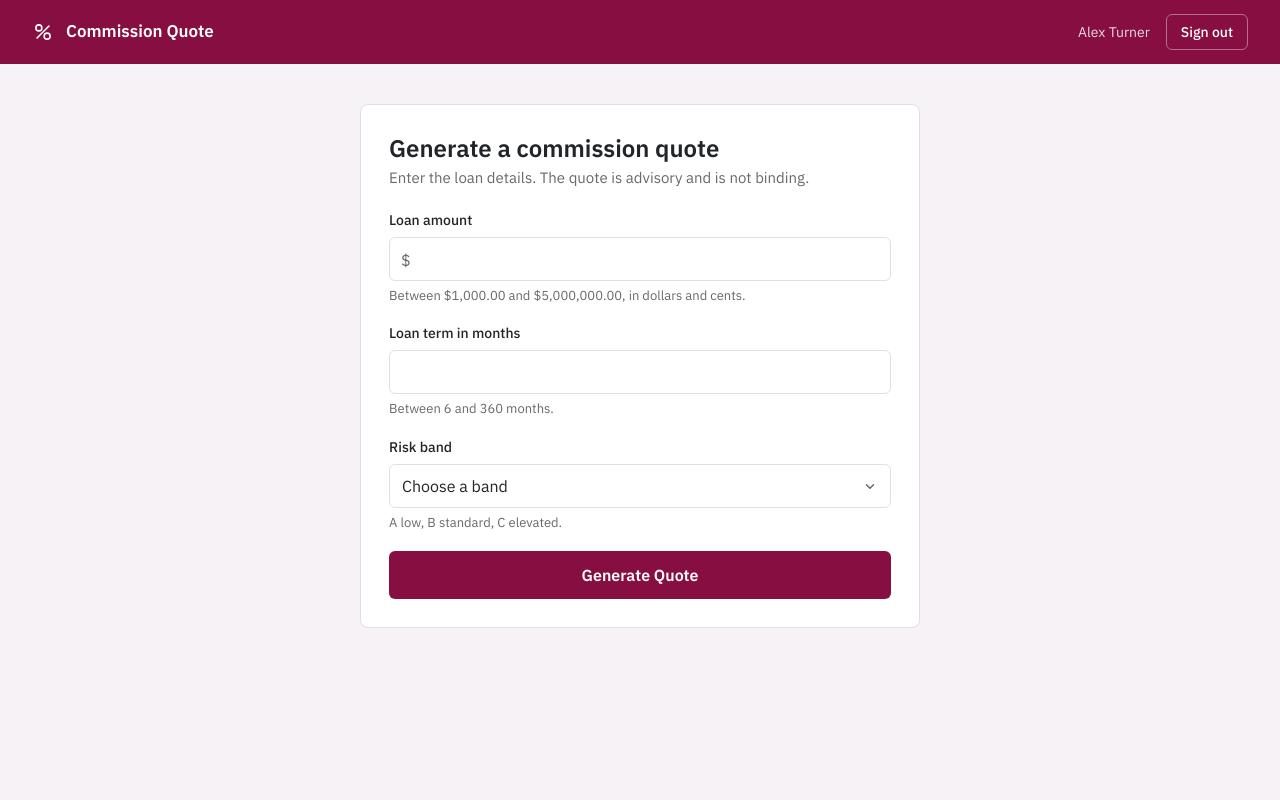
it: generating a quote › shows the vendor figures, formatted but not recalculated
This screenshot has width=1280, height=800.
Expected: the heading "Generate a commission quote" is shown, [389,132,719,164]
Step 1. Type "250000.00" into the field labelled "Loan amount" → coordinates (640, 258), box [389,236,891,280]
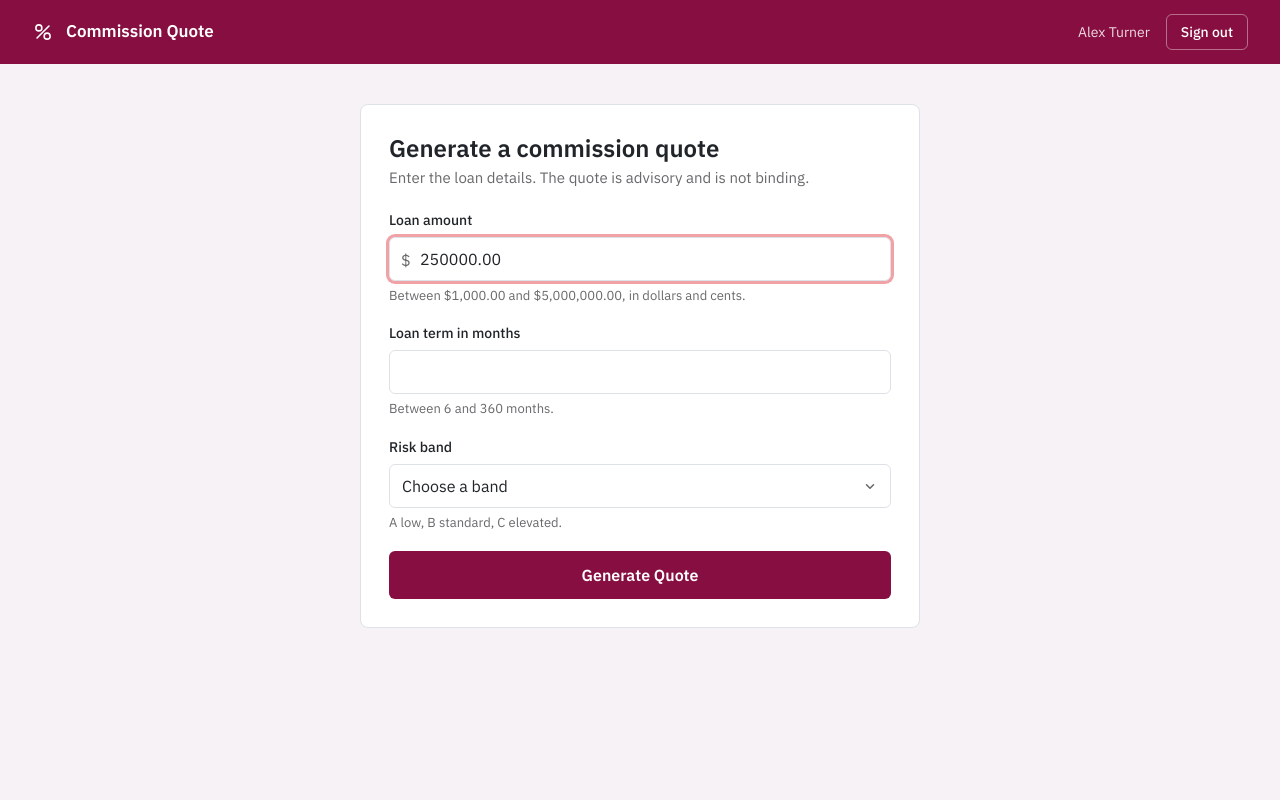
Step 2. Type "240" into the field labelled "Loan term in months" → coordinates (640, 372), box [389,350,891,394]
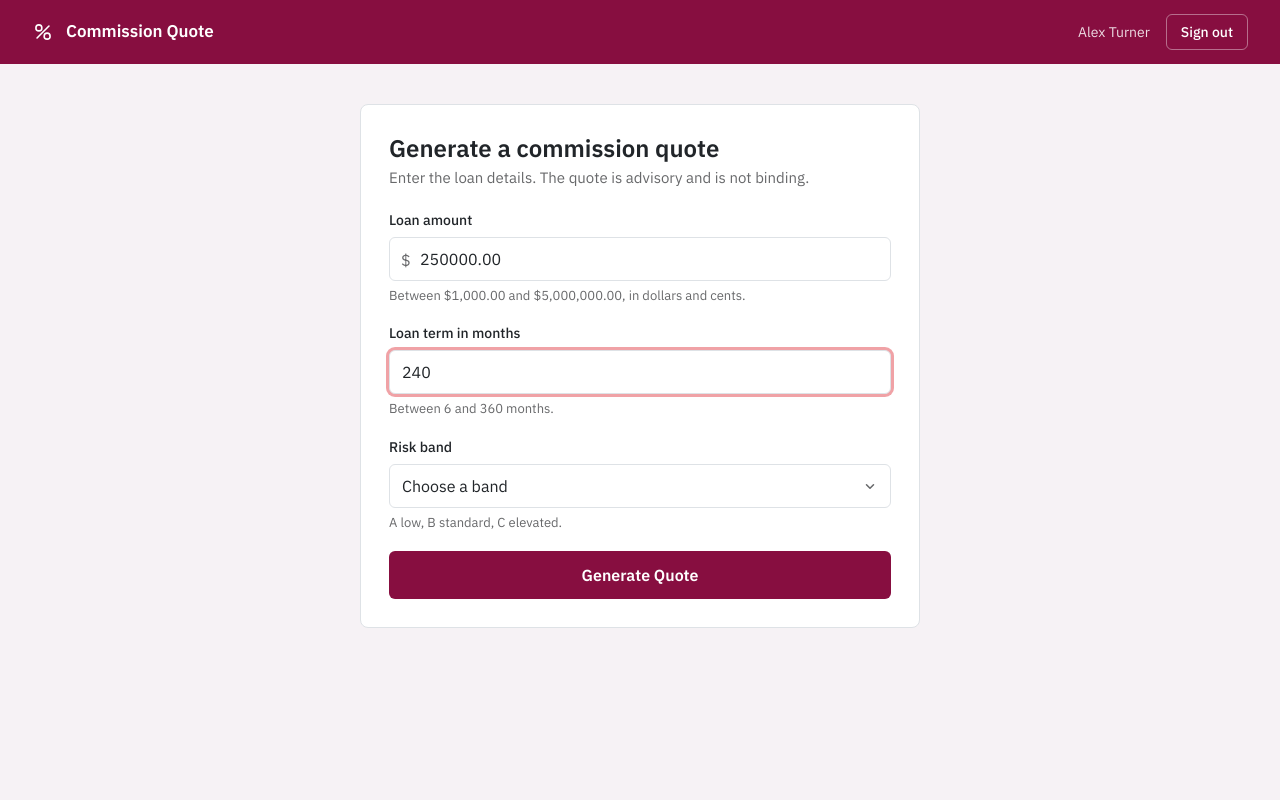
Step 3. Select "B — Standard risk" in the dropdown labelled "Risk band" → coordinates (640, 486), box [389,464,891,508]
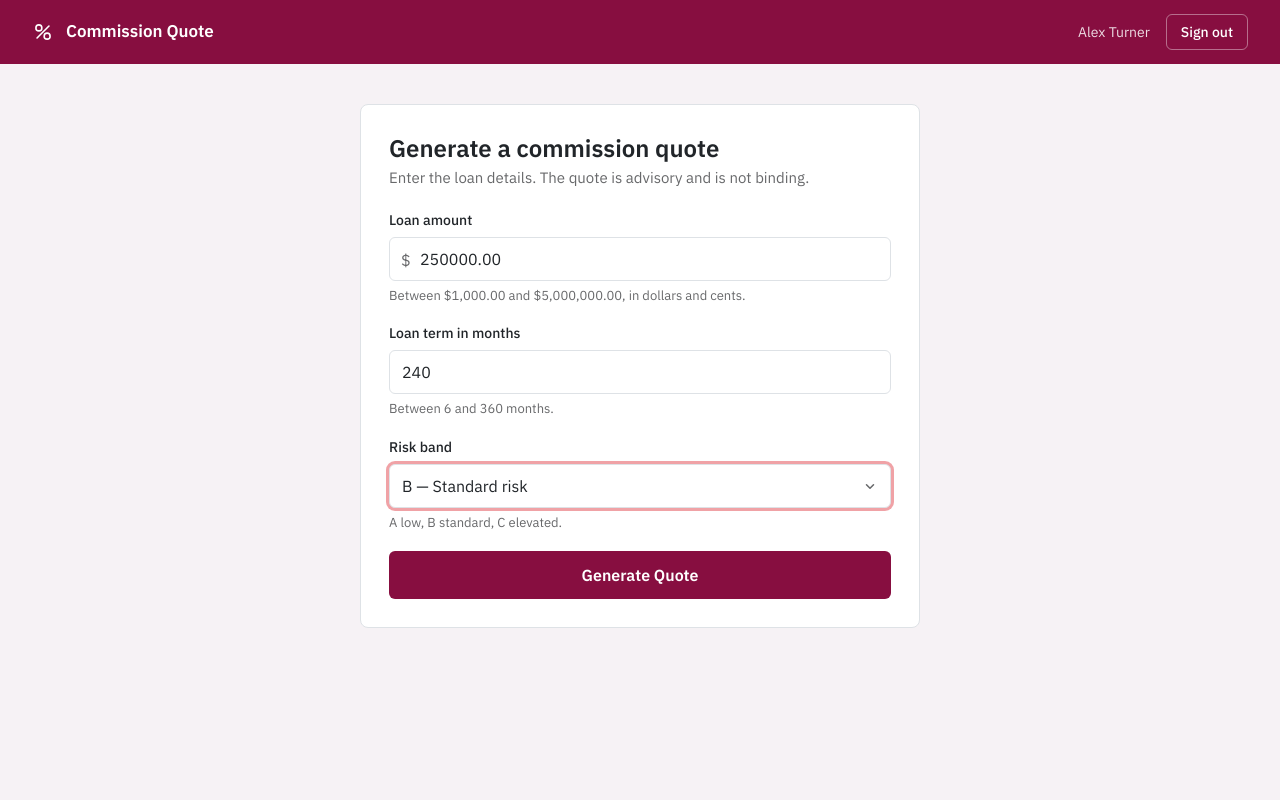
Step 4. Click the button "Generate Quote" → coordinates (640, 575), box [389,551,891,599]
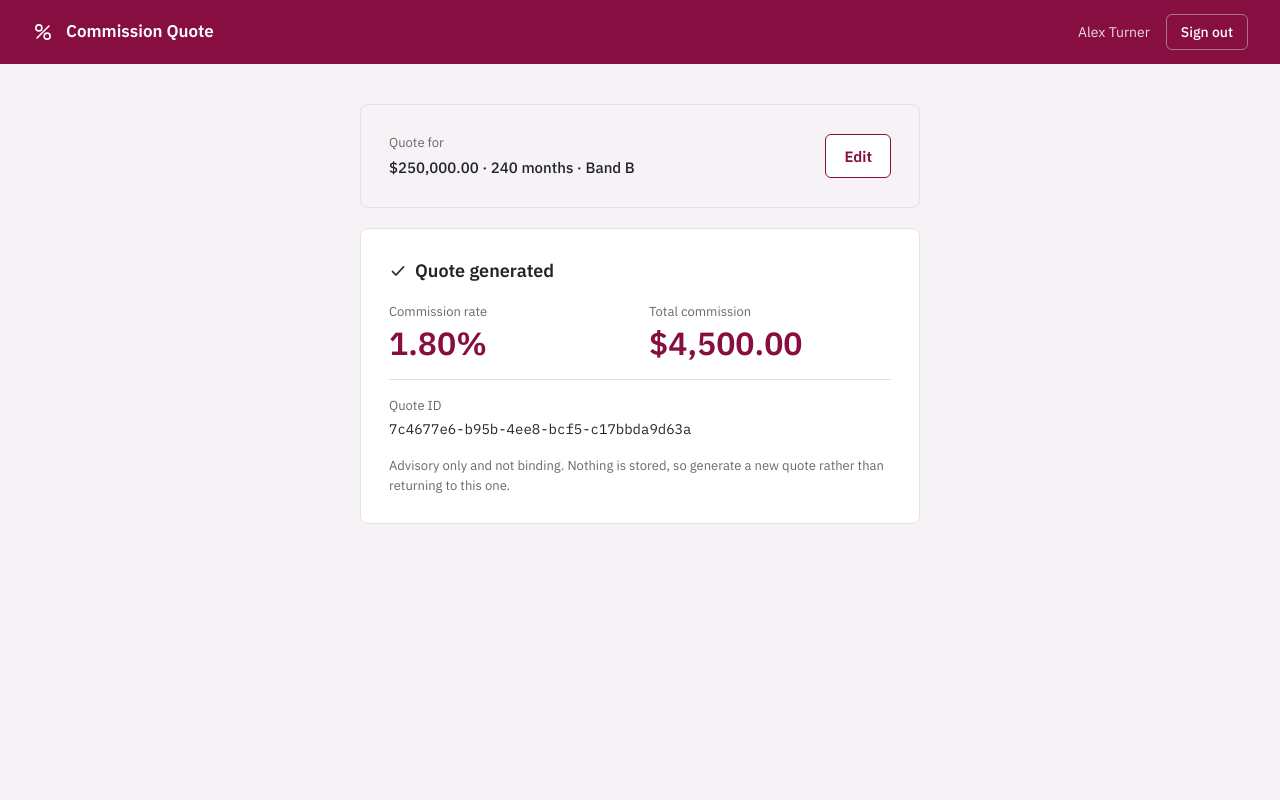
Expected: the text "1.80%" is shown, [389,322,487,364]
Expected: the text "$4,500.00" is shown, [649,322,802,364]
Expected: the text "7c4677e6-b95b-4ee8-bcf5-c17bbda9d63a" is shown, [389,420,691,438]
